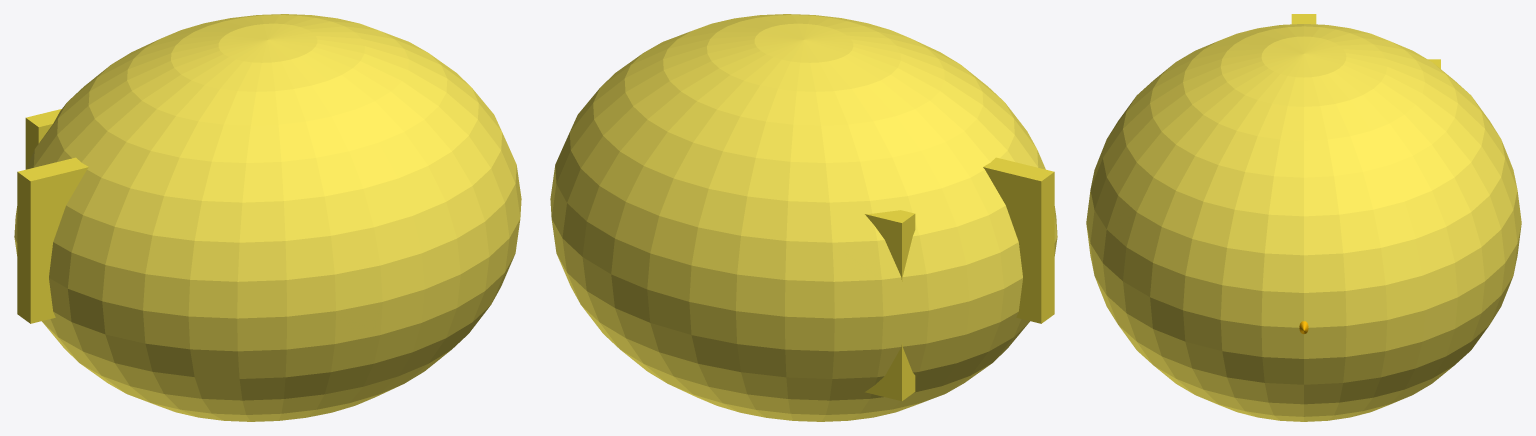
The model's file is bird.glb.
3 renders of one model, left to right at view 1: azimuth 30°, elevation 25°; view 2: azimuth 150°, elevation 25°; view 3: azimuth 270°, elevation 25°, orthographic. The views are drawn at different scales.
Visible parts, largest first — view 1: Bird; view 2: Bird; view 3: Bird.
Part boxes in pixels (x1,y1,x2,y2): Bird: (14, 14, 521, 421); Bird: (550, 14, 1057, 421); Bird: (1086, 14, 1521, 421).
Size of the model in its own units: 0.84 by 0.6 by 0.7.
